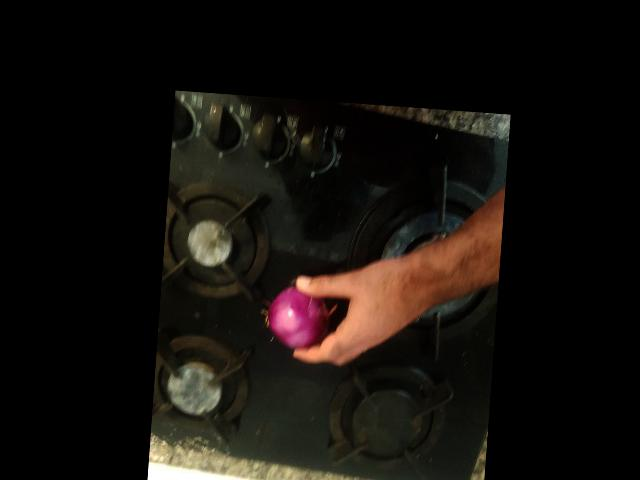onion: (220, 366, 293, 437)
